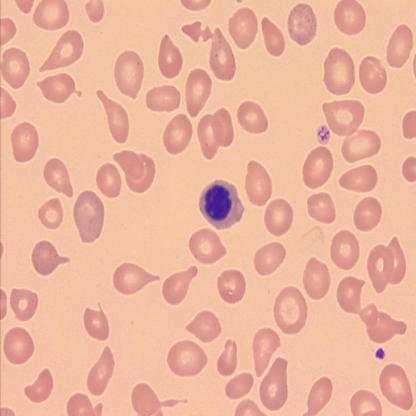NRC: (197, 177, 246, 230)
